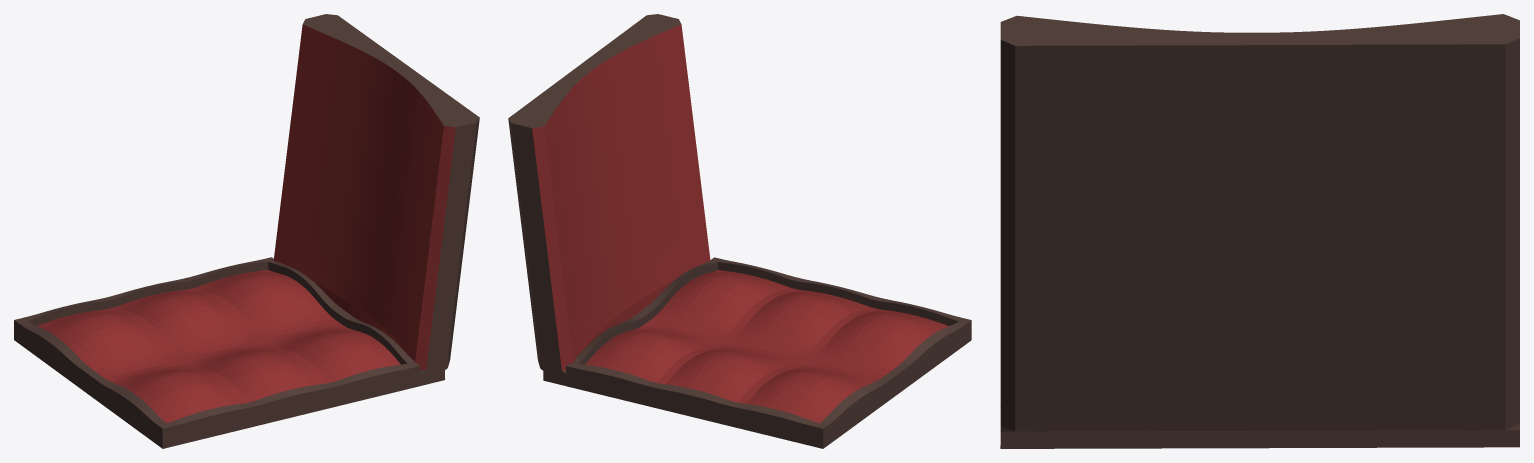
The model's file is Chair1.fbx.
The picture shows the model from 3 angles, left to right: view 1: azimuth 30°, elevation 25°; view 2: azimuth 150°, elevation 25°; view 3: azimuth 270°, elevation 25°; orthographic projection. The views are drawn at different scales.
Parts seen in each view (by area): view 1: Cube; view 2: Cube; view 3: Cube.
Boxes of the visible parts, <box> form: Cube: <box>14,14,479,448</box>; Cube: <box>508,14,971,448</box>; Cube: <box>1000,14,1519,448</box>.
Size of the model in its own units: 249 by 186 by 200.
